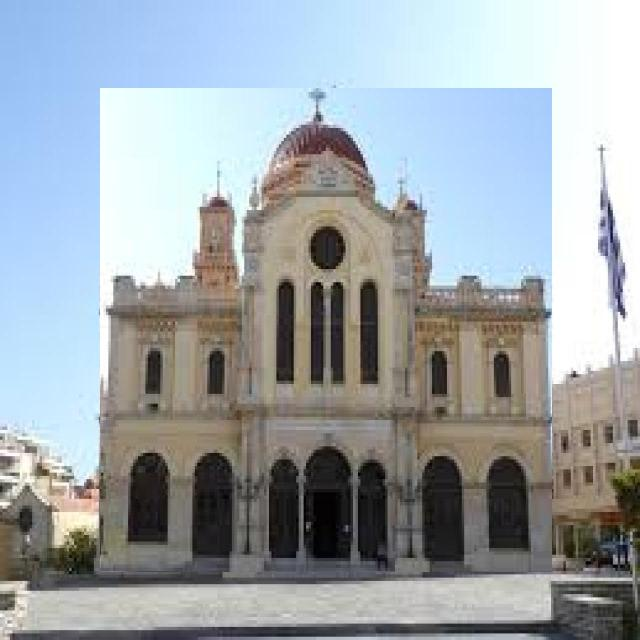Agios Minas: (102, 89, 554, 573)
